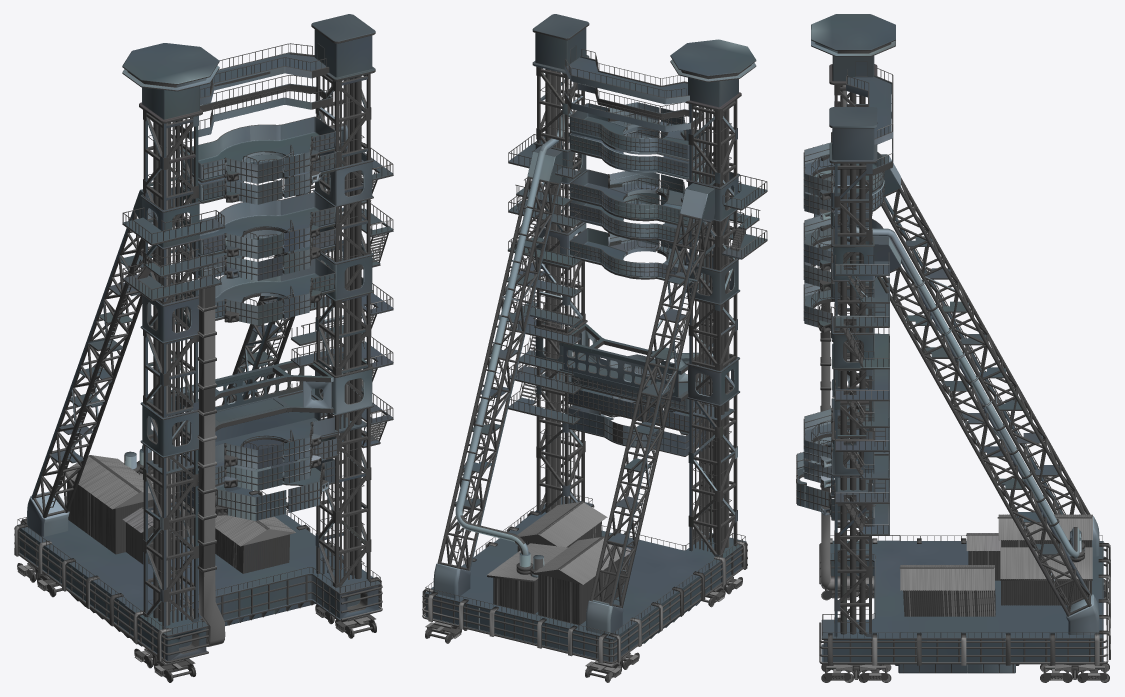
File: gantry-v1.glb
3 views of the same model, side by side, from view 1: azimuth 30°, elevation 25°; view 2: azimuth 150°, elevation 25°; view 3: azimuth 270°, elevation 25° (orthographic). The views are drawn at different scales.
Parts seen in each view (by area): view 1: Proton gantry; view 2: Proton gantry; view 3: Proton gantry.
Boxes of the visible parts, bbox=[...] form: Proton gantry: bbox=[14, 14, 393, 682]; Proton gantry: bbox=[422, 14, 767, 682]; Proton gantry: bbox=[796, 14, 1110, 682].
Size of the model in its own units: 25.66 by 58.34 by 29.46.
2 materials, 2 textured.
